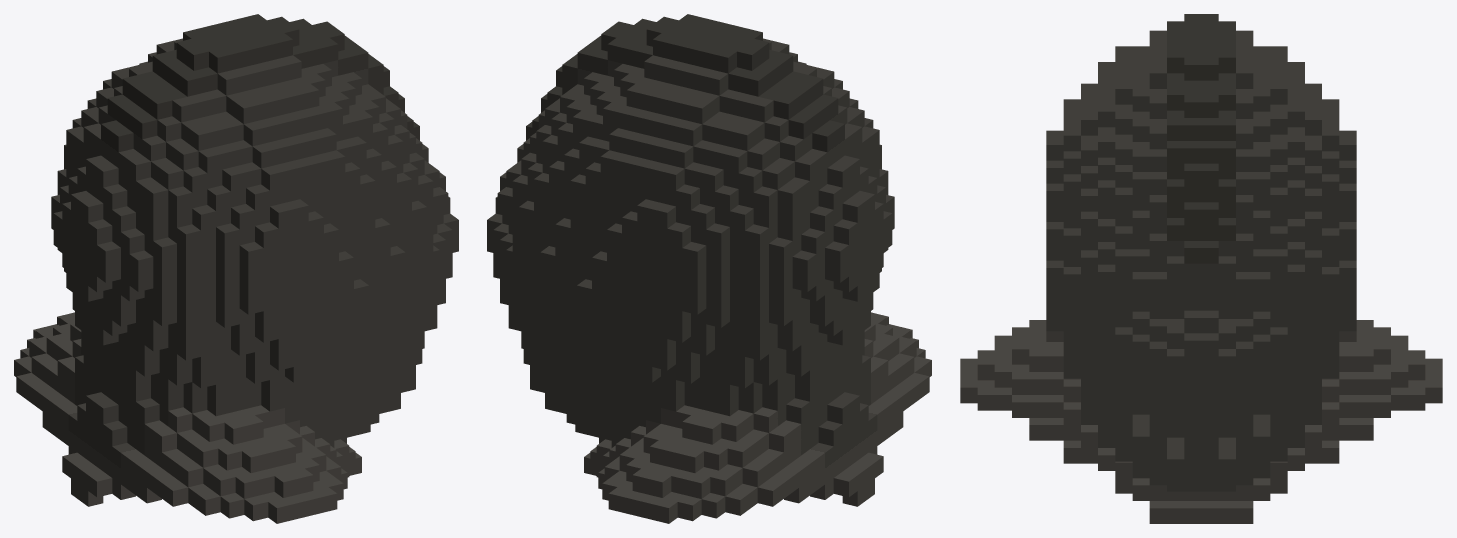
Rendered from Helm_Milan_M.obj.
3 renders of one model, left to right at view 1: azimuth 30°, elevation 25°; view 2: azimuth 150°, elevation 25°; view 3: azimuth 270°, elevation 25°, orthographic.
Parts seen in each view (by area): view 1: Helm_Milan_M; view 2: Helm_Milan_M; view 3: Helm_Milan_M.
Boxes of the visible parts, x1,y1,x2,y2 form: Helm_Milan_M: [14, 14, 458, 523]; Helm_Milan_M: [487, 14, 931, 523]; Helm_Milan_M: [960, 14, 1442, 523].
Bounding box in the file's own units: 24 × 28 × 28.
